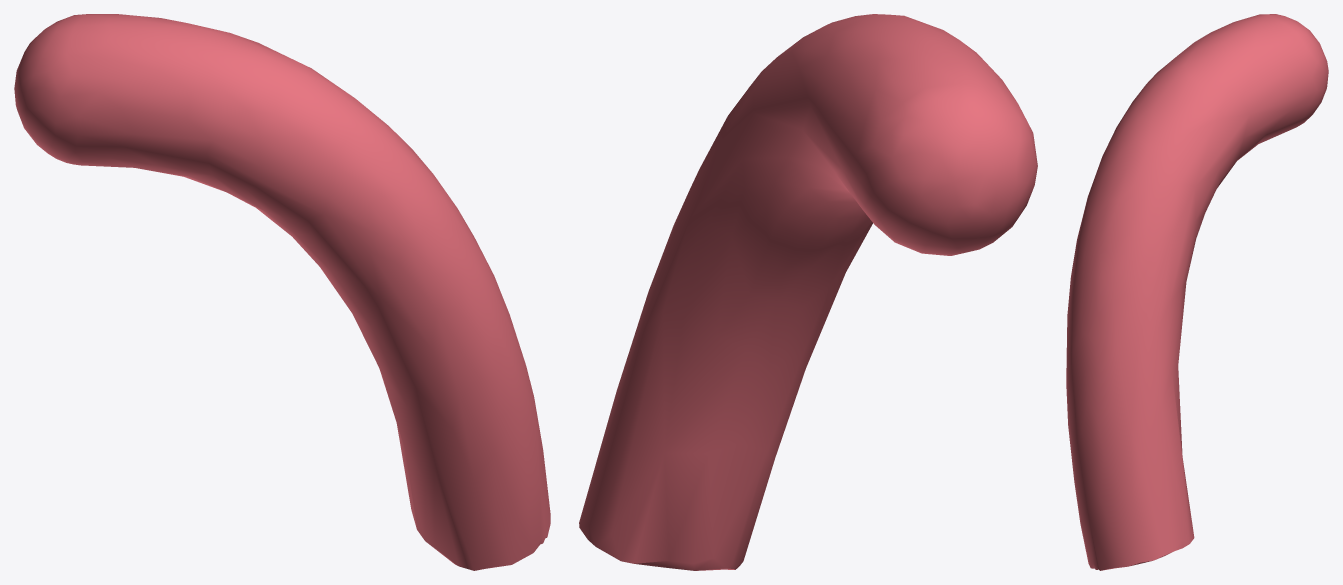
File: fma66550_fj2298.glb
The picture shows the model from 3 angles, left to right: view 1: azimuth 30°, elevation 25°; view 2: azimuth 150°, elevation 25°; view 3: azimuth 270°, elevation 25°; orthographic projection. The views are drawn at different scales.
Parts seen in each view (by area): view 1: FMA66550_FJ2298; view 2: FMA66550_FJ2298; view 3: FMA66550_FJ2298.
Boxes of the visible parts, <box> form: FMA66550_FJ2298: <box>14,14,550,570</box>; FMA66550_FJ2298: <box>579,14,1037,570</box>; FMA66550_FJ2298: <box>1066,14,1328,570</box>.
Size of the model in its own units: 0.013 by 0.0155 by 0.00857.
